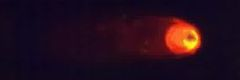keyhole: (184, 31, 198, 42)
